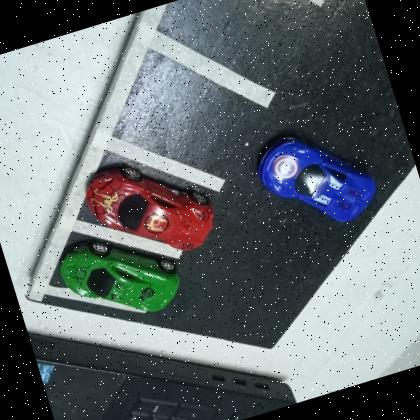Car: (80, 144, 224, 276), (250, 115, 386, 245), (54, 219, 190, 336)
